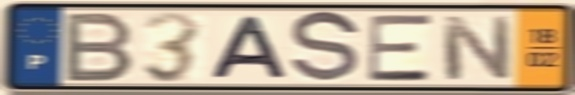3: (141, 9, 210, 86)
A: (208, 14, 292, 81)
B: (60, 10, 138, 84)
E: (366, 12, 435, 84)
N: (438, 14, 515, 83)
S: (287, 8, 364, 87)
